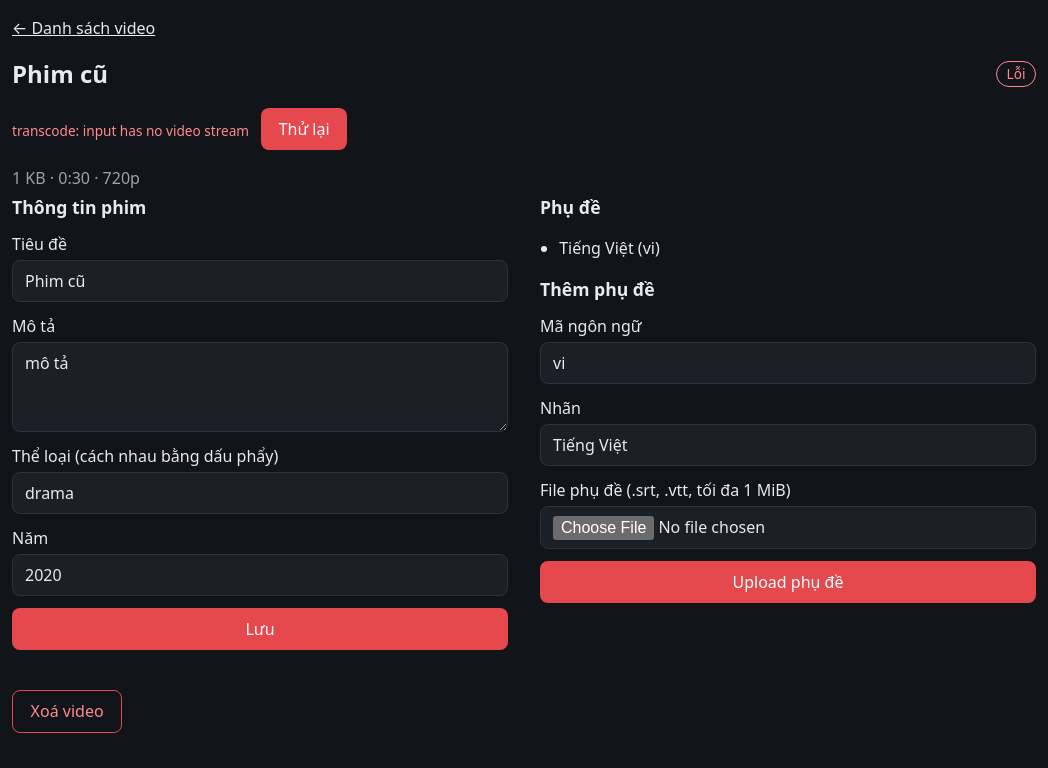
AdminVideoPage › video failed: hiện lý do lỗi và thử lại
Check: the text "transcode: input has no video stream" is shown, box [12,121,249,141]
Click the button "Thử lại" at {"x": 304, "y": 129}, box [261,108,347,150]
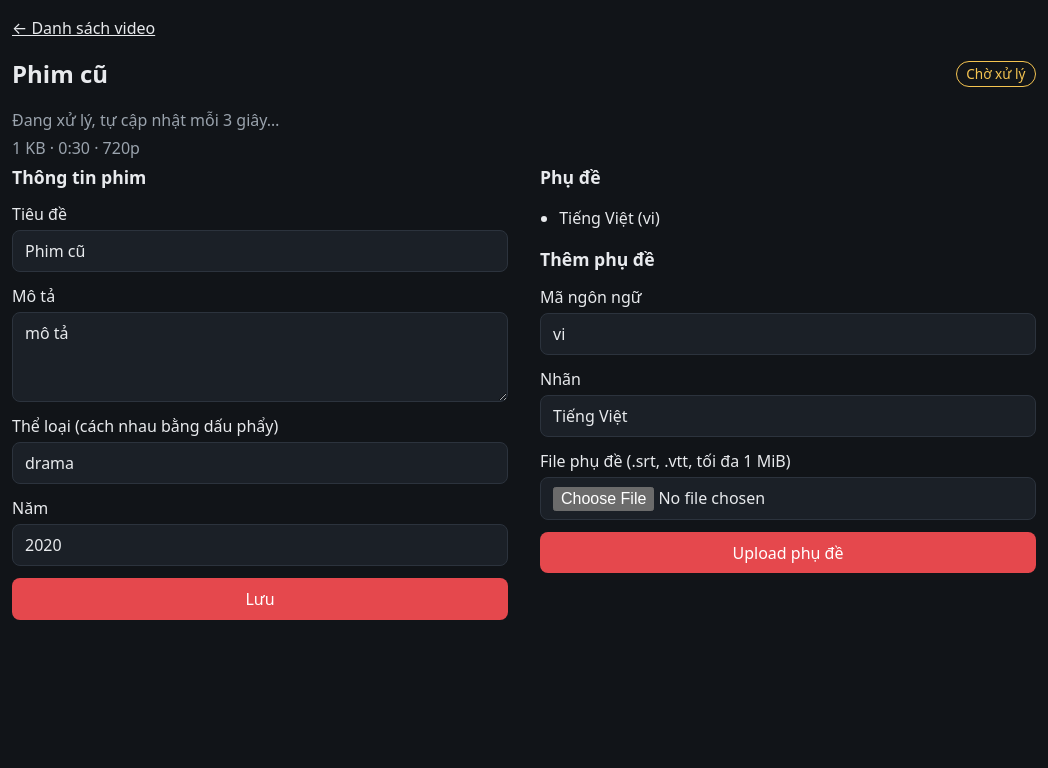
Check: the text "Chờ xử lý" is shown, box [956,61,1036,87]
Check: the button "Xoá video" is gone
